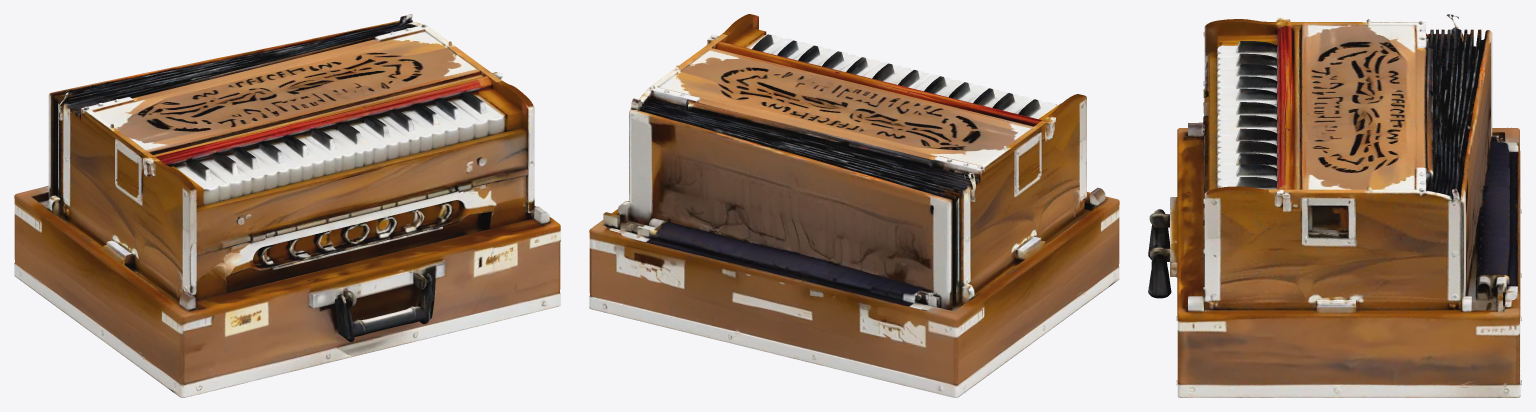
File: compressed_1764151767617_base_basic_shaded.glb
3 renders of one model, left to right at view 1: azimuth 30°, elevation 25°; view 2: azimuth 150°, elevation 25°; view 3: azimuth 270°, elevation 25°, orthographic. The views are drawn at different scales.
Parts seen in each view (by area): view 1: model; view 2: model; view 3: model.
Part boxes in pixels (x1,y1,x2,y2): model: (14,14,560,397); model: (589,14,1119,397); model: (1148,14,1521,397).
Bounding box in the file's own units: 1.79 × 0.9098 × 1.5.
Materials: 1 (1 with a texture image).
